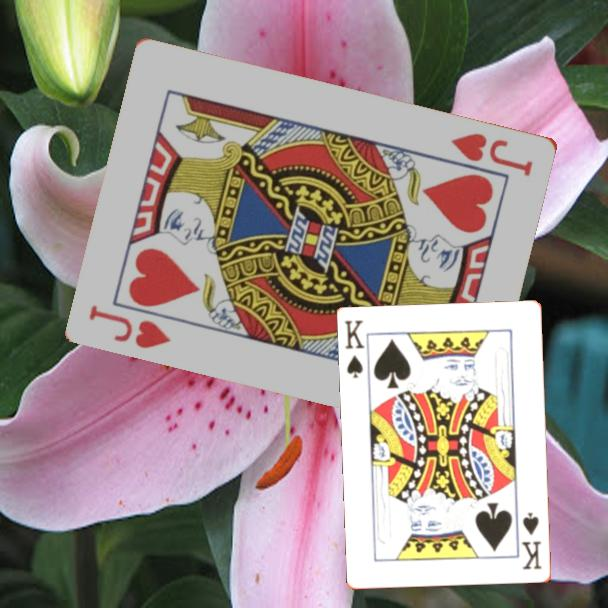h11: (85, 301, 175, 351), (447, 129, 536, 179)
s13: (341, 317, 367, 381), (519, 509, 544, 573)
